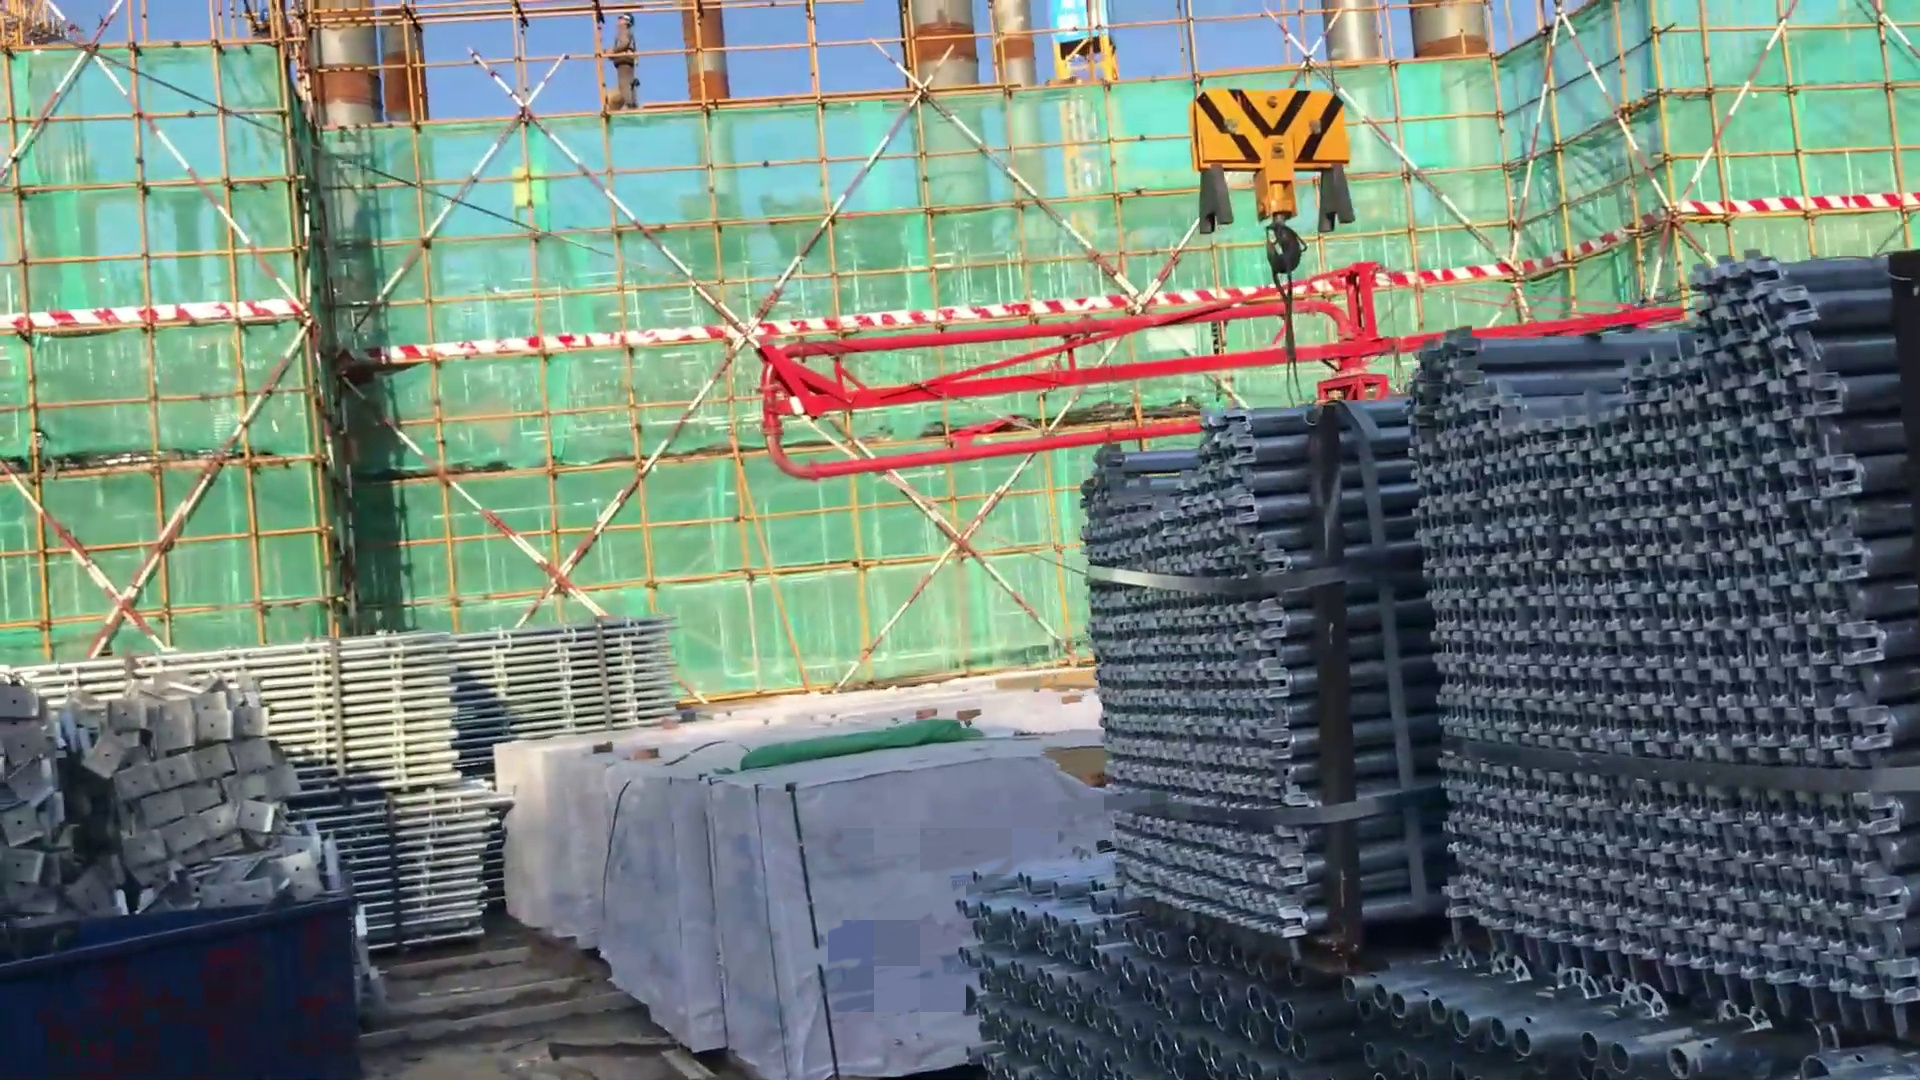helmet: (617, 15, 640, 31)
hook: (1180, 55, 1388, 323)
hopper: (1, 877, 361, 1075)
person: (612, 1, 650, 122)
scaffold: (1376, 270, 1920, 1008), (898, 828, 1918, 1080), (1055, 380, 1452, 948), (4, 582, 479, 789), (451, 582, 687, 769), (306, 773, 529, 959)
